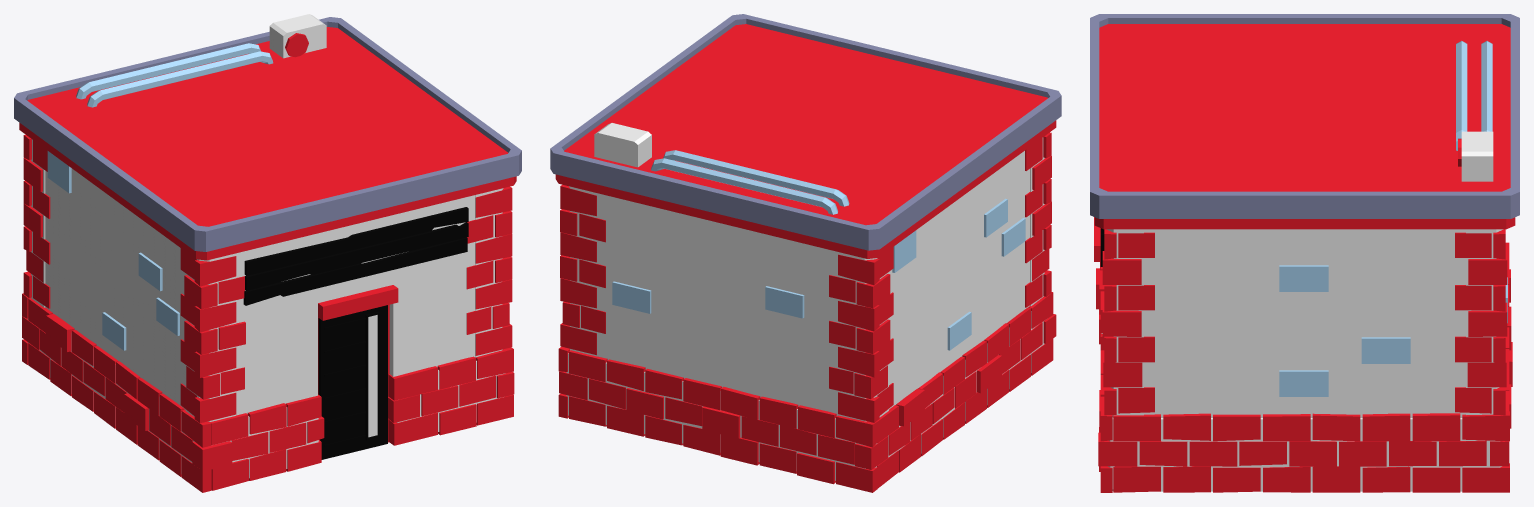
Rendered from building_quaternius_1Story_Sign.glb.
3 views of the same model, side by side, from view 1: azimuth 30°, elevation 25°; view 2: azimuth 150°, elevation 25°; view 3: azimuth 270°, elevation 25° (orthographic). The views are drawn at different scales.
Size of the model in its own units: 2.15 by 1.79 by 2.15.
1 material, 1 textured.
